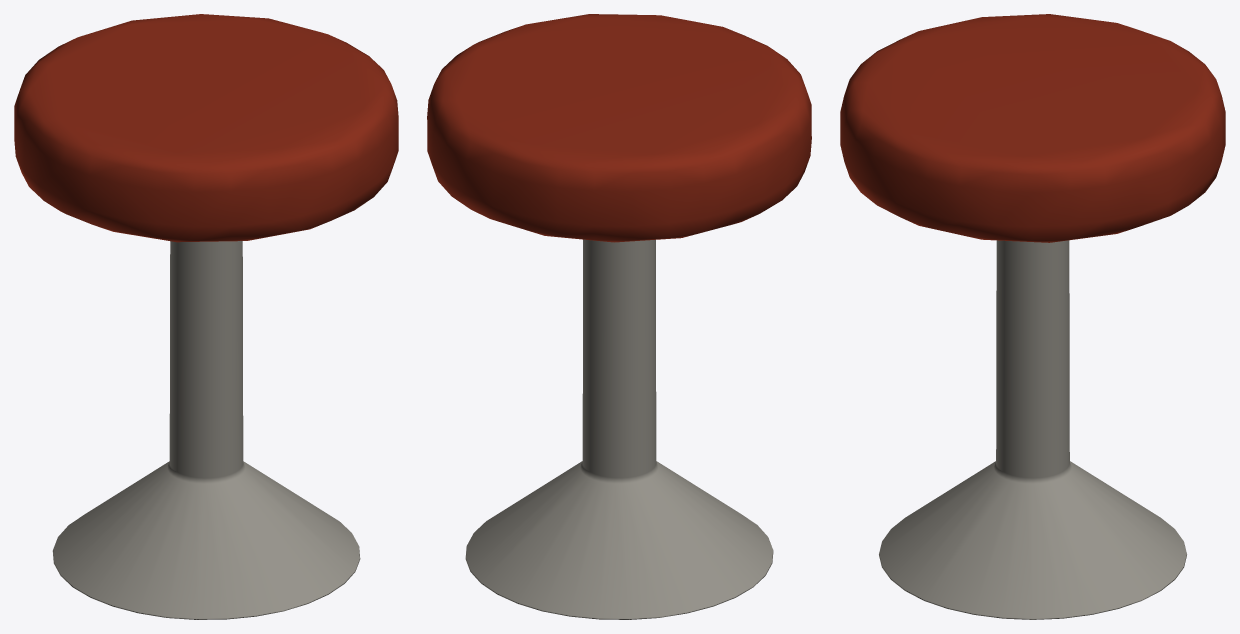
Rendered from barstool_03_red.fbx.
3 renders of one model, left to right at view 1: azimuth 30°, elevation 25°; view 2: azimuth 150°, elevation 25°; view 3: azimuth 270°, elevation 25°, orthographic.
Parts seen in each view (by area): view 1: barstool_03_red; view 2: barstool_03_red; view 3: barstool_03_red.
Part boxes in pixels (left/top/right/bottom): barstool_03_red: left=14, top=14, right=398, bottom=619; barstool_03_red: left=427, top=14, right=811, bottom=619; barstool_03_red: left=840, top=14, right=1225, bottom=619.
Size of the model in its own units: 52.72 by 70.84 by 52.72.
Materials: 2 (2 with a texture image).
